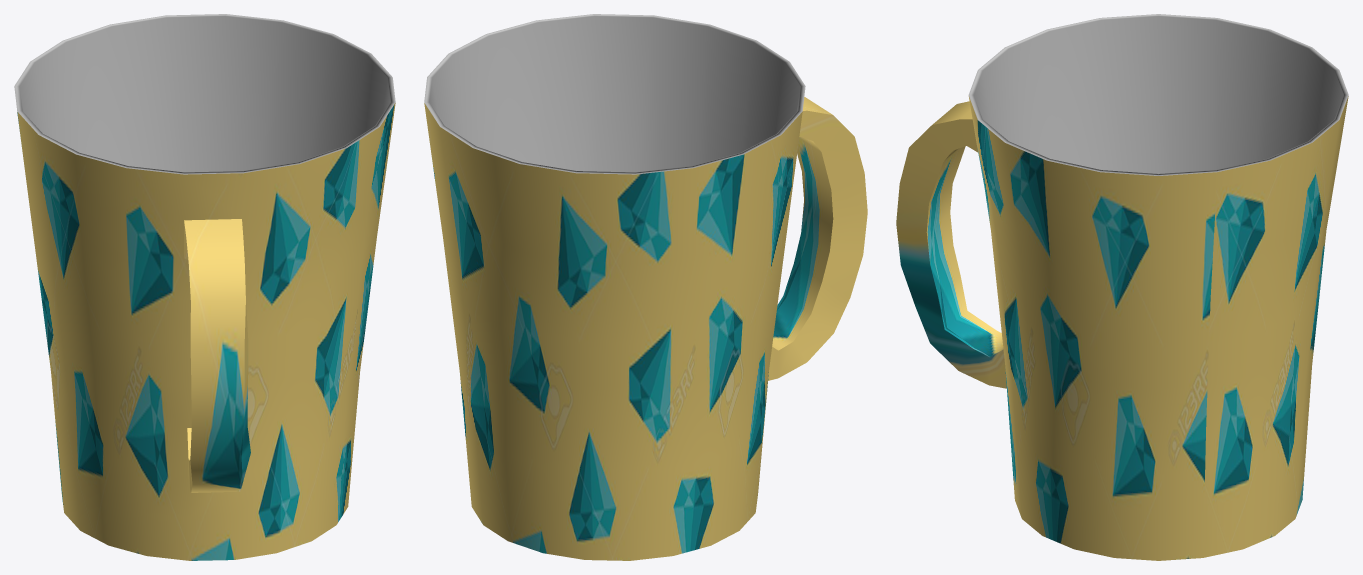
The model's file is cup2.fbx.
3 renders of one model, left to right at view 1: azimuth 30°, elevation 25°; view 2: azimuth 150°, elevation 25°; view 3: azimuth 270°, elevation 25°, orthographic.
Parts seen in each view (by area): view 1: pCylinder1; view 2: pCylinder1; view 3: pCylinder1.
Boxes of the visible parts, x1=… form: pCylinder1: x1=14, y1=14, x2=395, y2=560; pCylinder1: x1=424, y1=14, x2=867, y2=560; pCylinder1: x1=896, y1=14, x2=1348, y2=560.
Size of the model in its own units: 2.57 by 3 by 3.04.
Materials: 2 (1 with a texture image).
